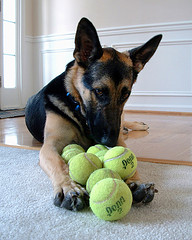tennis ball: (88, 177, 133, 222), (103, 146, 138, 179), (68, 152, 102, 184), (86, 168, 122, 194), (60, 143, 85, 159), (85, 144, 109, 154), (94, 150, 109, 163)
